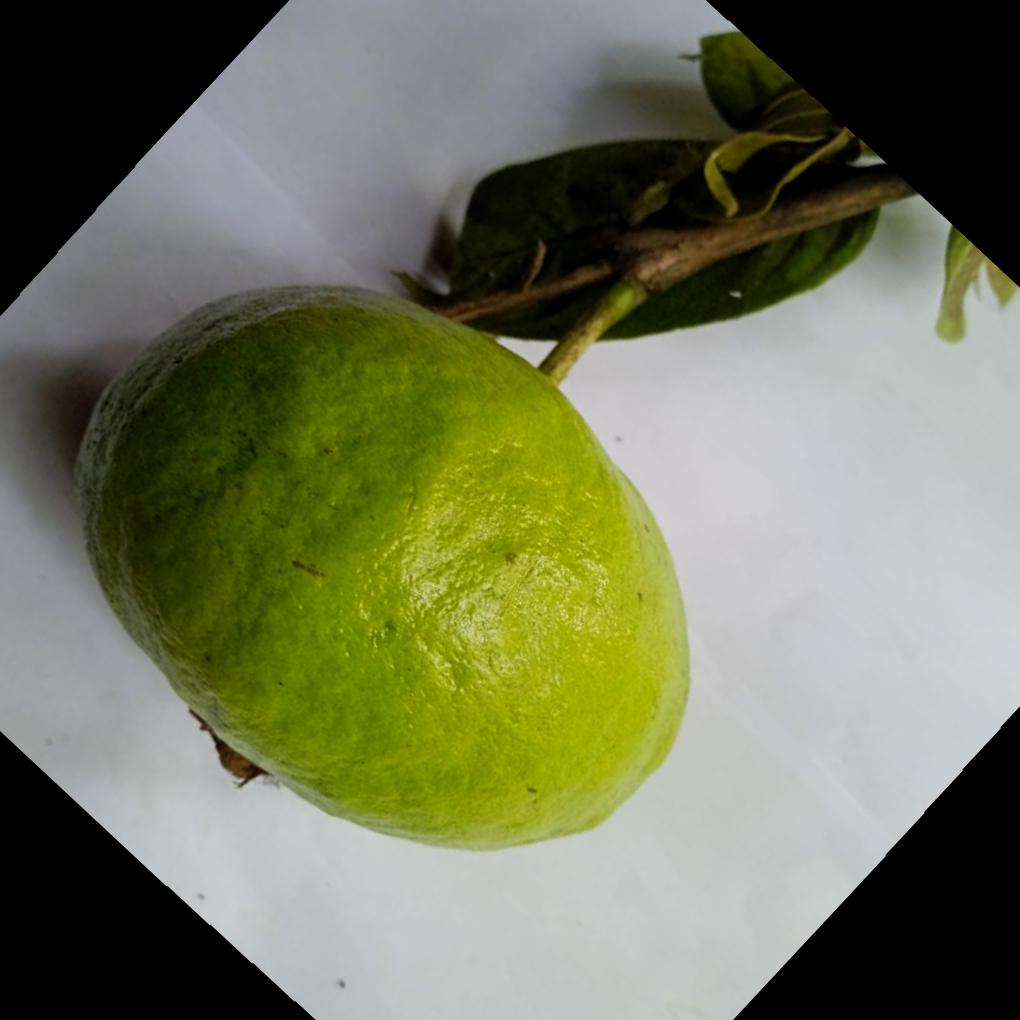FreshGuava: (70, 283, 690, 856)
